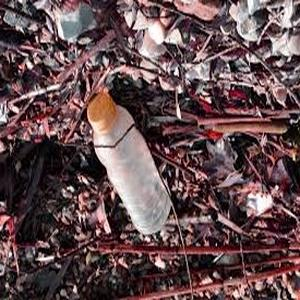Plastic: (86, 89, 174, 235)
